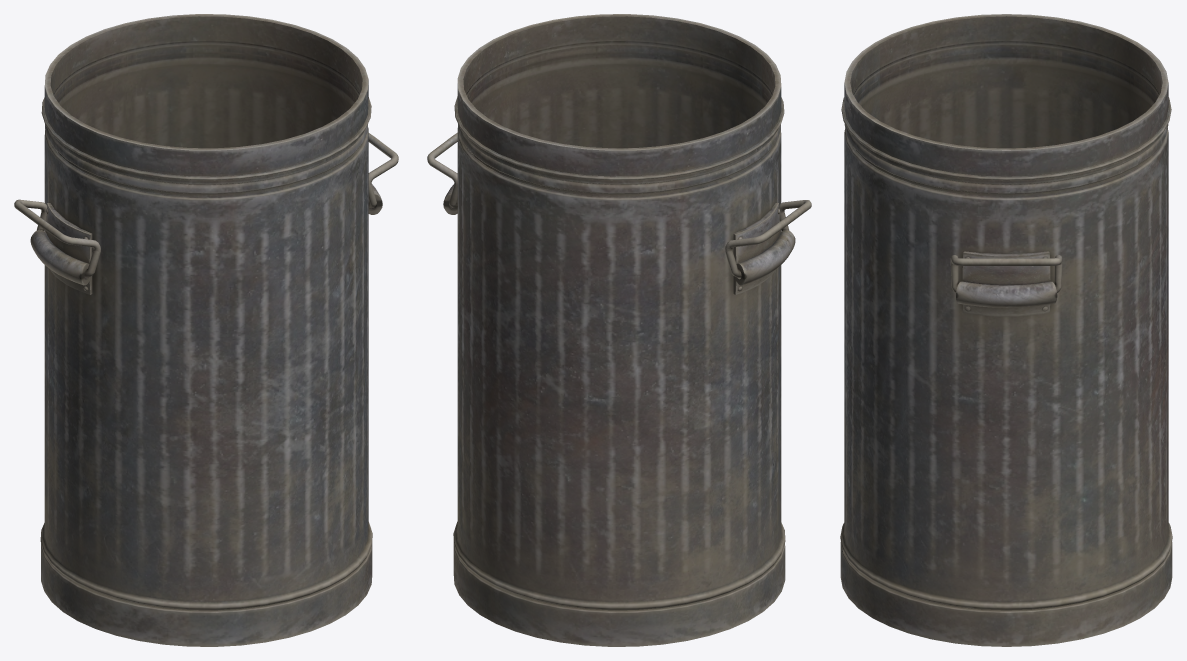
Rendered from MetalTrashCan.glb.
The picture shows the model from 3 angles, left to right: view 1: azimuth 30°, elevation 25°; view 2: azimuth 150°, elevation 25°; view 3: azimuth 270°, elevation 25°; orthographic projection.
Parts seen in each view (by area): view 1: metal_trash_can, metal_trash_can_handle_left, metal_trash_can_handle_right; view 2: metal_trash_can, metal_trash_can_handle_left, metal_trash_can_handle_right; view 3: metal_trash_can, metal_trash_can_handle_right.
Part boxes in pixels (x1=…): metal_trash_can: x1=30, y1=14, x2=382, y2=646; metal_trash_can_handle_left: x1=14, y1=199, x2=100, y2=277; metal_trash_can_handle_right: x1=368, y1=133, x2=398, y2=208; metal_trash_can: x1=443, y1=14, x2=795, y2=646; metal_trash_can_handle_left: x1=725, y1=200, x2=811, y2=277; metal_trash_can_handle_right: x1=427, y1=132, x2=457, y2=208; metal_trash_can: x1=840, y1=14, x2=1172, y2=646; metal_trash_can_handle_right: x1=950, y1=255, x2=1062, y2=292.
Size of the model in its own units: 0.651 by 0.9062 by 0.5524.
Materials: 1 (1 with a texture image).
